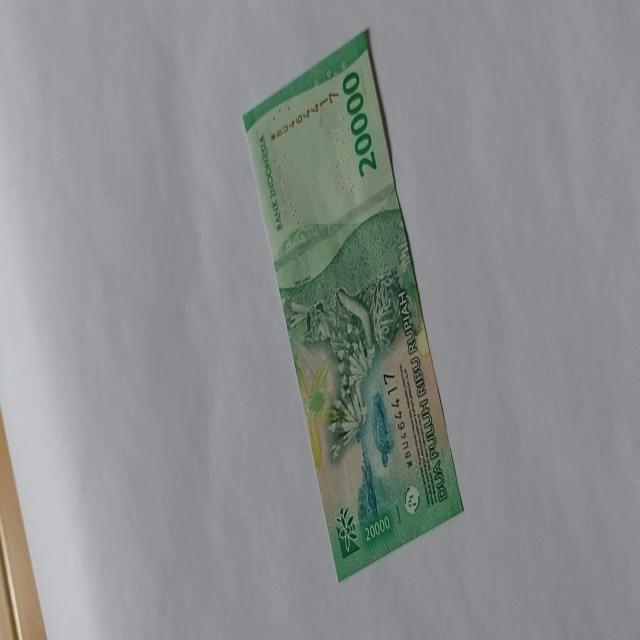dua puluh ribu rupiah: (241, 29, 464, 582), (276, 207, 418, 468)
